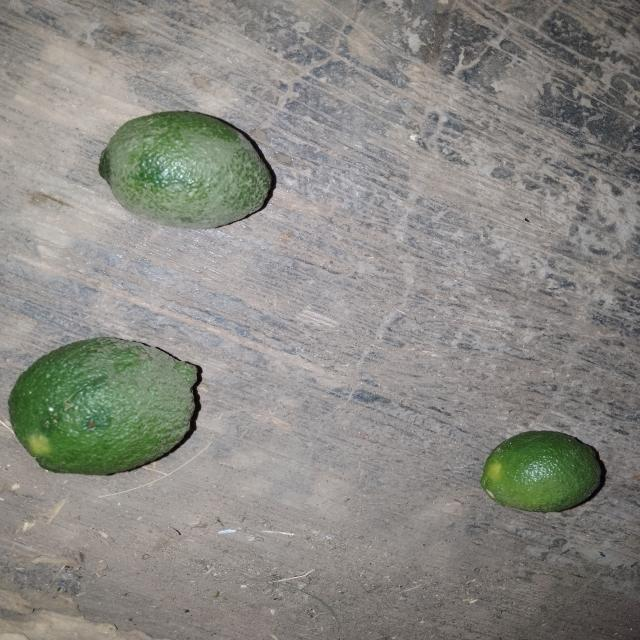Unripe: (4, 324, 215, 482), (94, 100, 300, 245), (464, 414, 620, 538)
